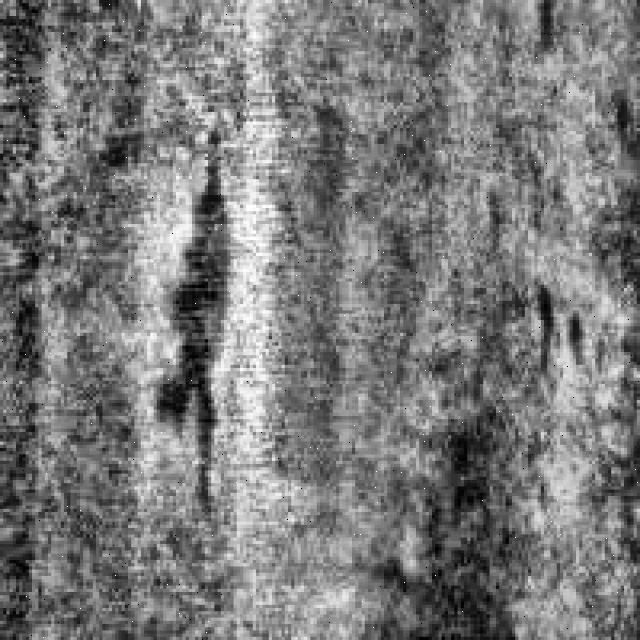Patches: (134, 134, 246, 518), (515, 269, 589, 400)
